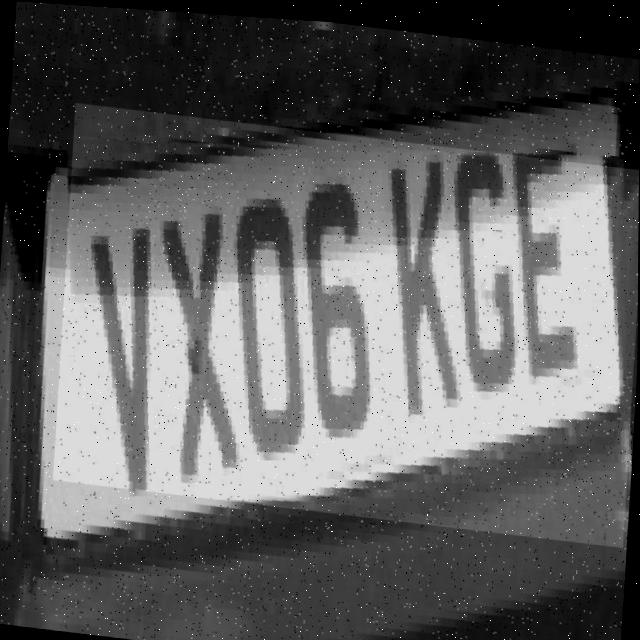LicensePlate: (53, 101, 639, 540)
